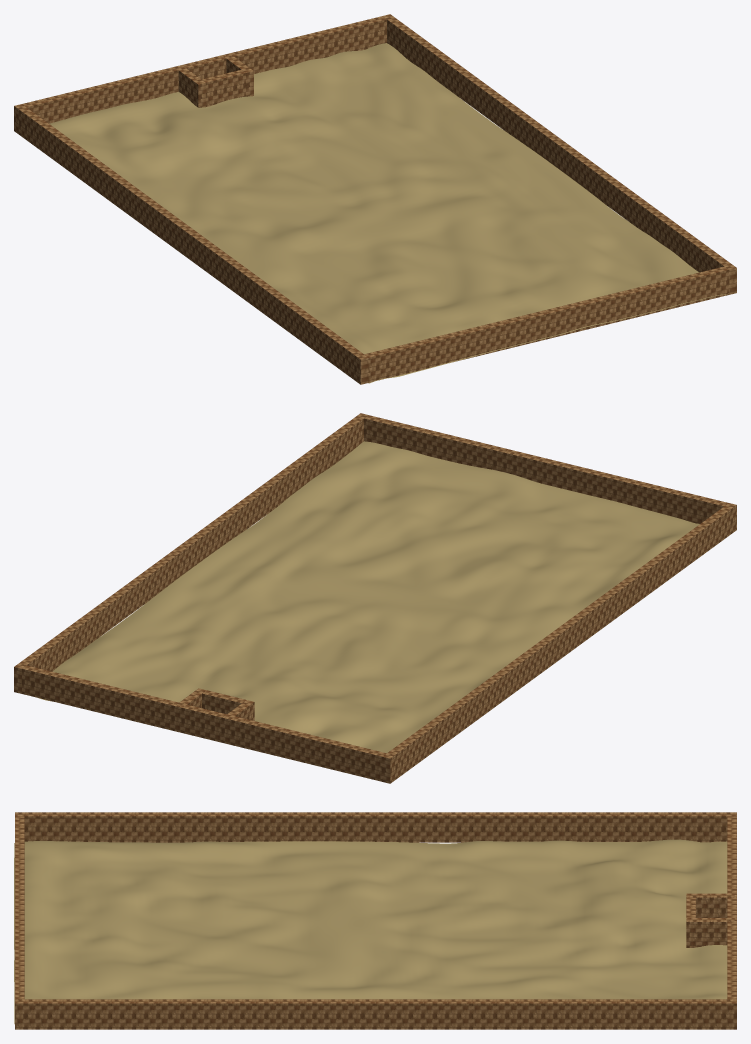
Rendered from BattleGroundSample.fbx.
3 renders of one model, top to bottom at view 1: azimuth 30°, elevation 25°; view 2: azimuth 150°, elevation 25°; view 3: azimuth 270°, elevation 25°, orthographic. The views are drawn at different scales.
Visible parts, largest first — view 1: polySurface6; view 2: polySurface6; view 3: polySurface6.
Boxes of the visible parts, x1,y1,x2,y2 form: polySurface6: (14,14,736,384); polySurface6: (14,413,736,783); polySurface6: (14,812,736,1029).
Bounding box in the file's own units: 940 × 63 × 1502.
